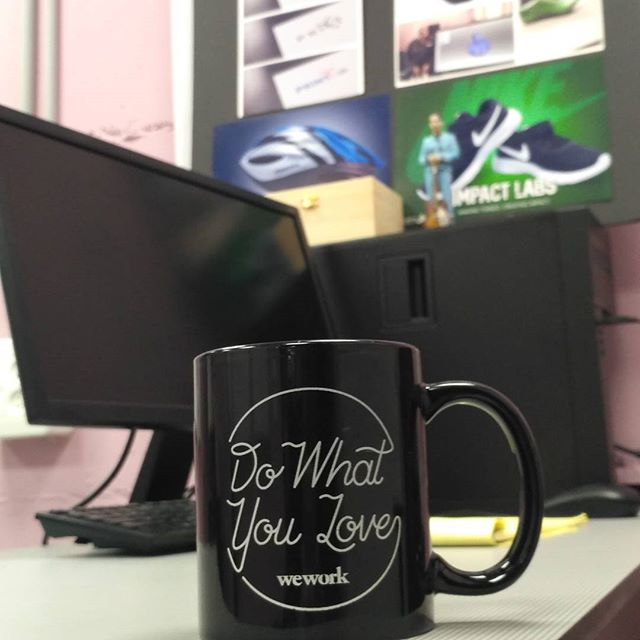wework: (271, 563, 352, 589)
